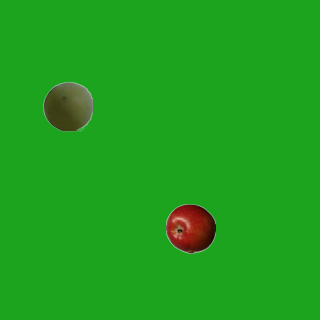Apple Braeburn: (165, 203, 215, 253)
Grape White 4: (42, 81, 92, 131)
